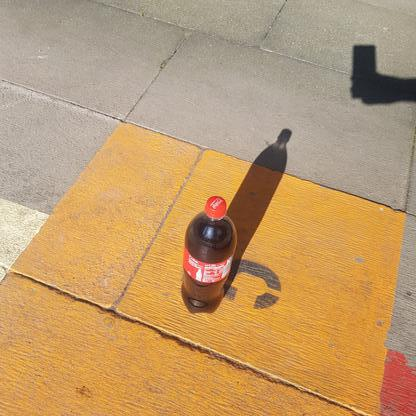coca-cola: (177, 194, 240, 316)
